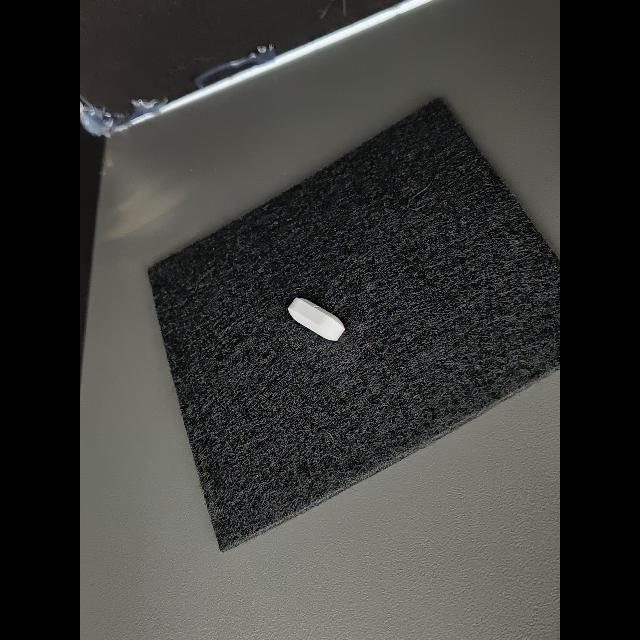Intact Pill: (288, 297, 345, 340)
